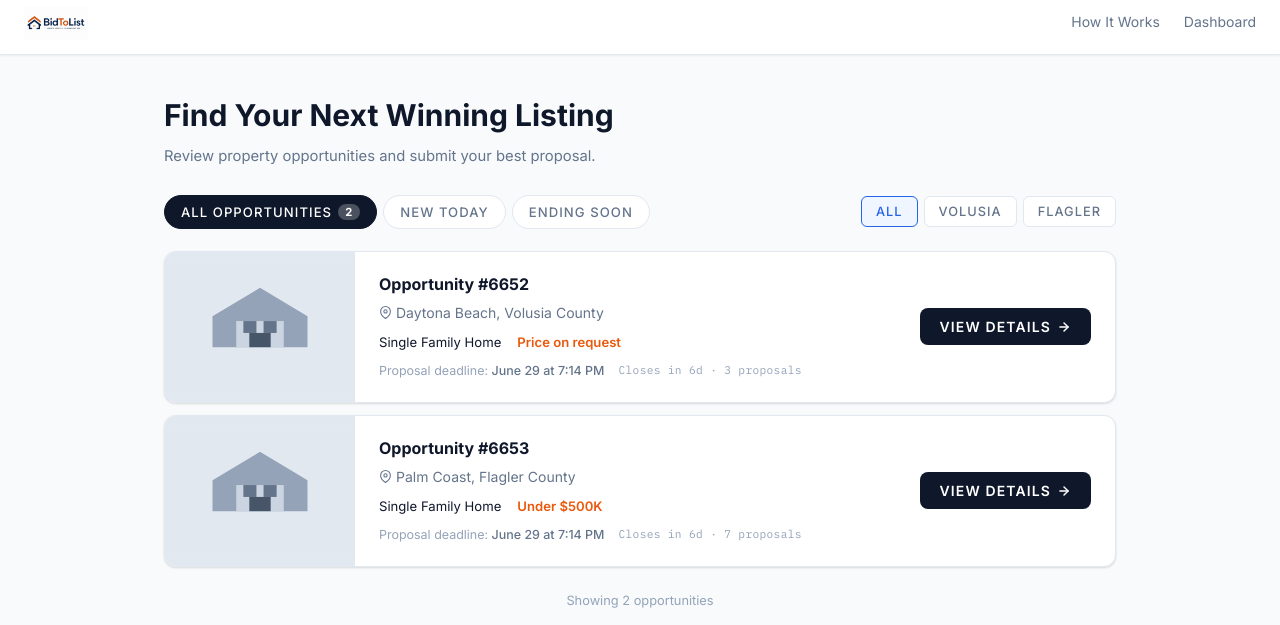
Test: BrowseListingsPage — county filter › filters to Flagler county only
Check: the text "Palm Coast, Flagler County" is shown, box 396,466 -> 576,488
Click the button "Flagler".
click(1069, 212)  # box 1023,196 -> 1116,227
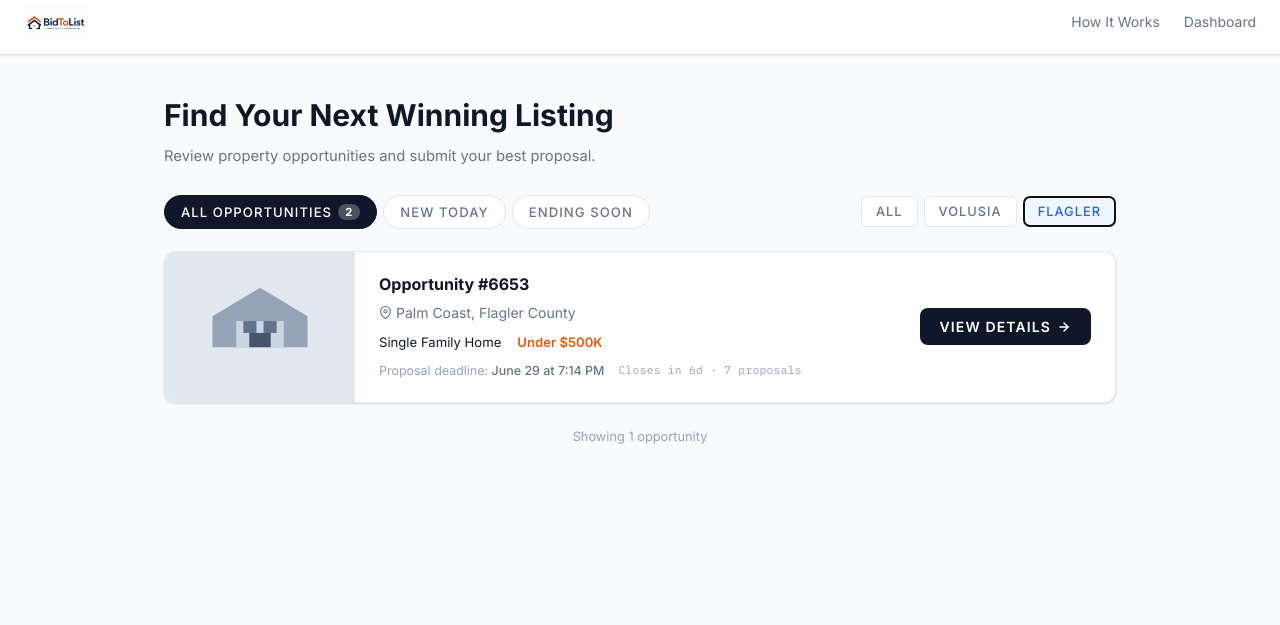
Check: the text "Palm Coast, Flagler County" is shown, box 396,302 -> 576,324
Check: the text "Daytona Beach" is gone
